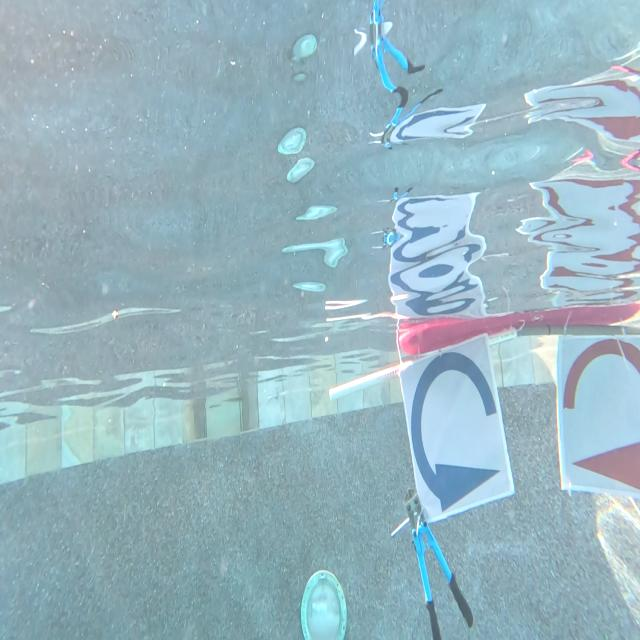blue_side: (407, 353, 506, 515)
red_side: (558, 335, 640, 493)
